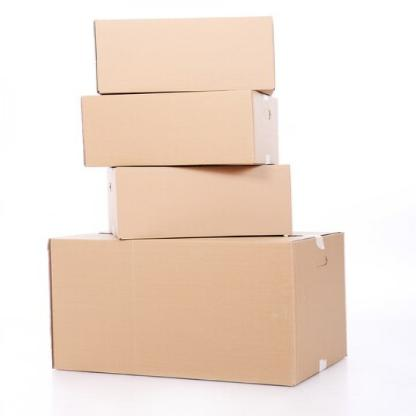box: (46, 238, 297, 388), (91, 17, 278, 95), (112, 162, 292, 241), (80, 89, 255, 166)
